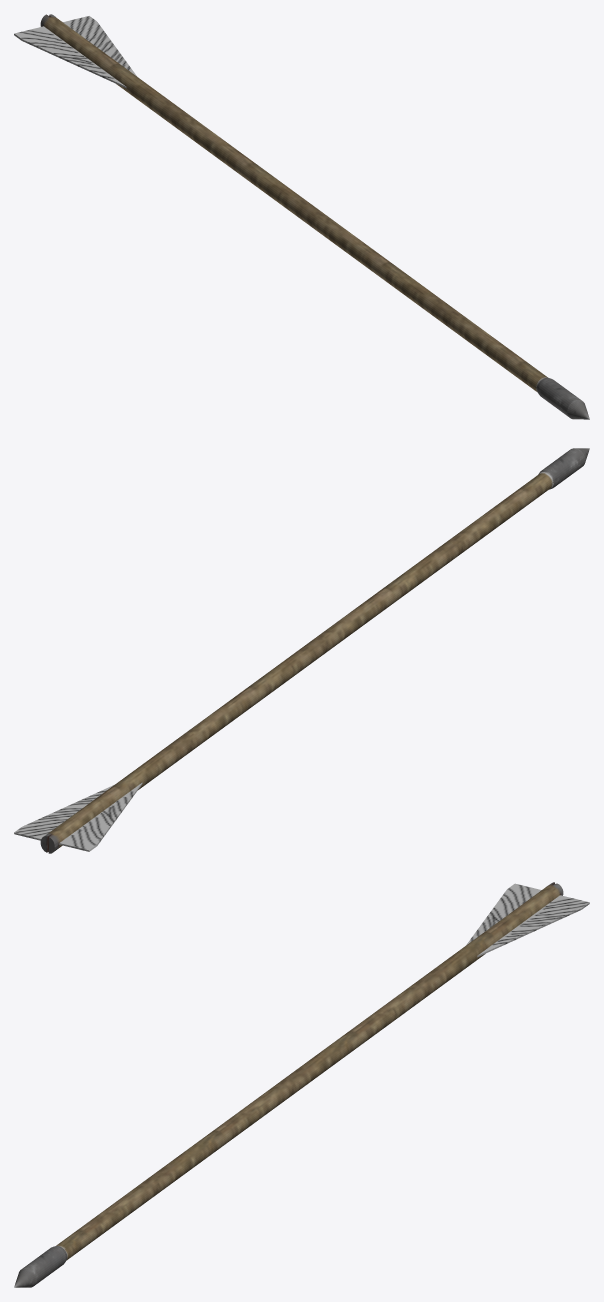
File: arrow.glb
3 renders of one model, top to bottom at view 1: azimuth 30°, elevation 25°; view 2: azimuth 150°, elevation 25°; view 3: azimuth 330°, elevation 25°, orthographic.
Visible parts, largest first — view 1: Cylinder; view 2: Cylinder; view 3: Cylinder.
Part boxes in pixels (bbox=[...]): Cylinder: bbox=[14, 14, 589, 419]; Cylinder: bbox=[14, 448, 589, 853]; Cylinder: bbox=[14, 882, 589, 1287].
Bounding box in the file's own units: 5.71 × 1.38 × 71.13.
1 material, 1 textured.
